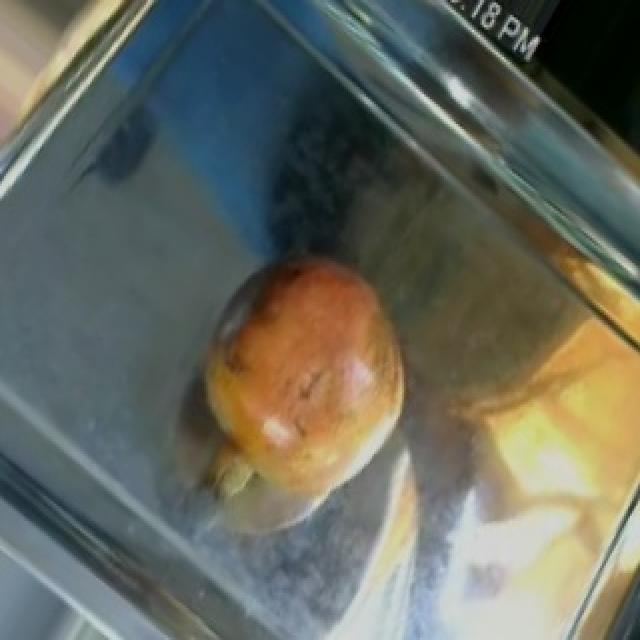fruit: (172, 226, 440, 486)
